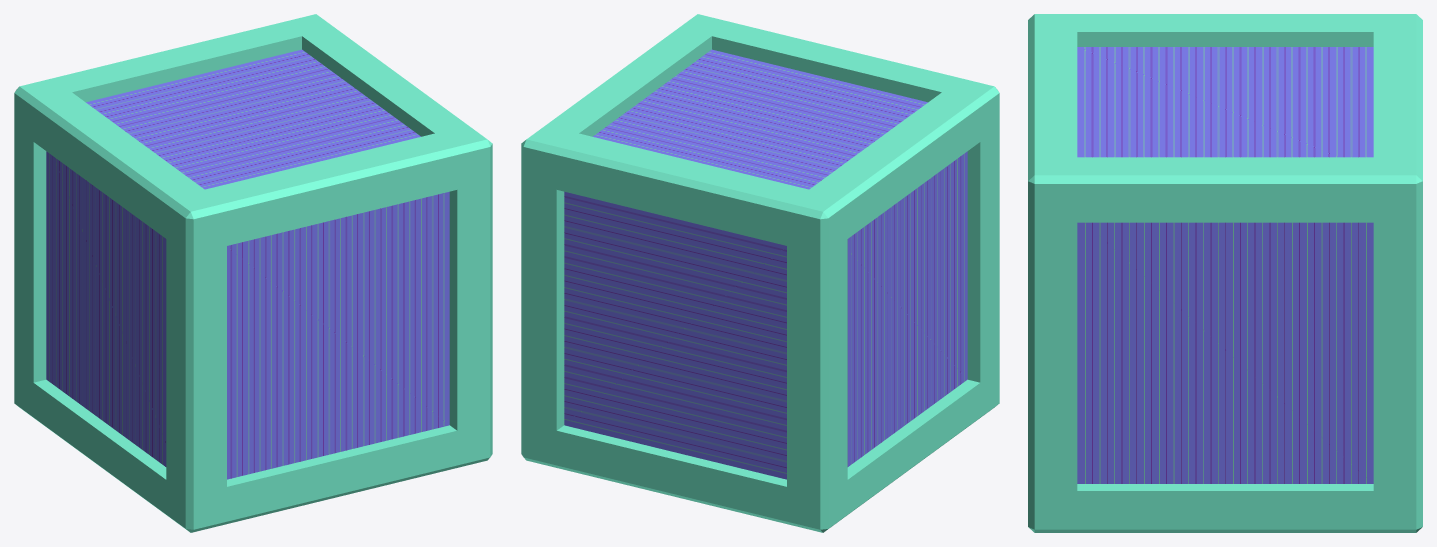
Rendered from WoodBlocks_Gr_01.FBX.
The picture shows the model from 3 angles, left to right: view 1: azimuth 30°, elevation 25°; view 2: azimuth 150°, elevation 25°; view 3: azimuth 270°, elevation 25°; orthographic projection. The views are drawn at different scales.
Visible parts, largest first — view 1: WoodBlocks_Gr_Rough_01, WoodBlocks_Gr_01; view 2: WoodBlocks_Gr_Rough_01, WoodBlocks_Gr_01; view 3: WoodBlocks_Gr_Rough_01, WoodBlocks_Gr_01.
Boxes of the visible parts, <box> form: WoodBlocks_Gr_Rough_01: <box>46,49,449,479</box>; WoodBlocks_Gr_01: <box>14,14,492,532</box>; WoodBlocks_Gr_Rough_01: <box>564,49,967,479</box>; WoodBlocks_Gr_01: <box>521,14,999,532</box>; WoodBlocks_Gr_Rough_01: <box>1077,47,1373,483</box>; WoodBlocks_Gr_01: <box>1028,14,1422,532</box>.
Size of the model in its own units: 1.2 by 1.2 by 1.2.
